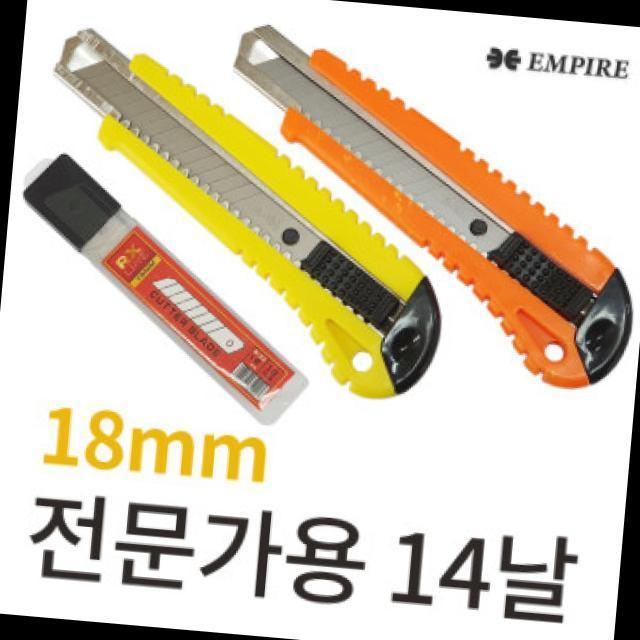cutter: (21, 16, 468, 406), (192, 19, 640, 402)
